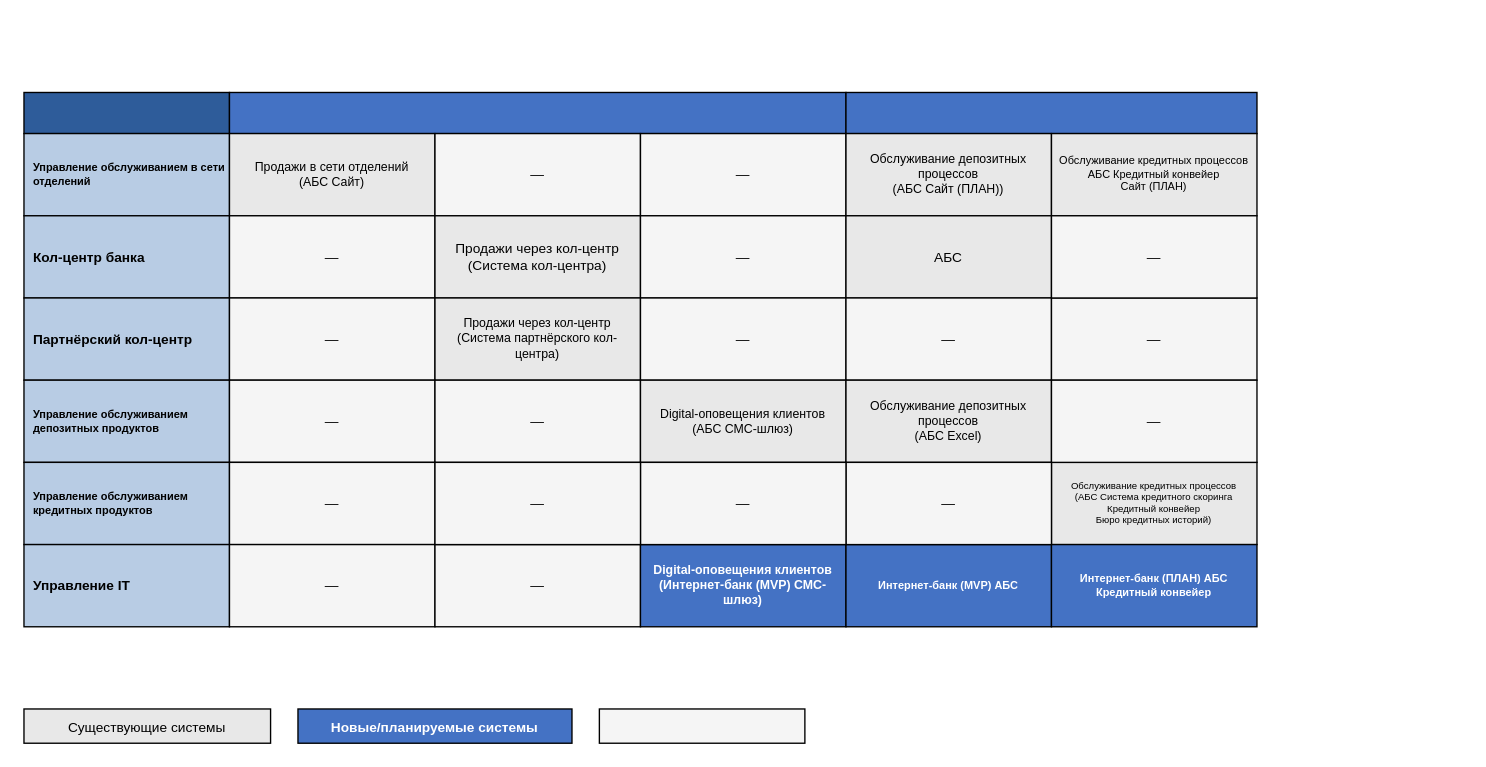
Image size: 1486x767. Some labels were removed from this diagram. The shapes that lost their labels are listed below. From the top down, each one's centre as x and y in pixels, then its label:
the point at 126,112: Организационная структура
the point at 537,112: Продажи и маркетинг
the point at 1051,112: Поддержка операционных процессов
the point at 701,725: Нет покрытия
